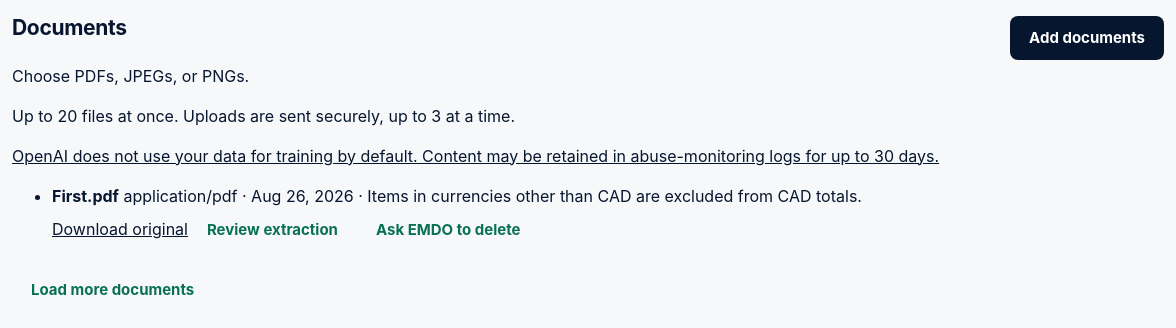
Test case: FinanceDocuments › loads a bounded second document page and de-duplicates an overlapping item
The width and height of the screenshot is (1176, 328).
Expected: the text "First.pdf" is shown, [52,186,119,206]
Click the button "Load more documents" at (113, 290), box [12,268,213,312]
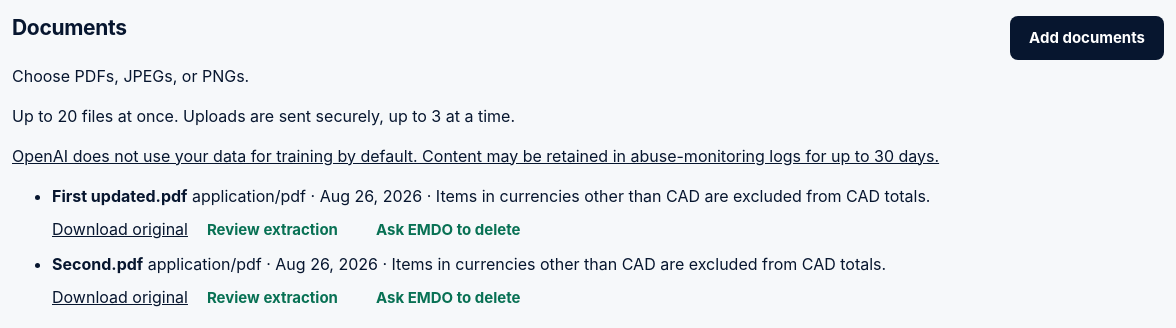
Now the text "Second.pdf" is shown, box [52,254,143,274]
Now the text "First updated.pdf" is shown once, box [52,186,188,206]
